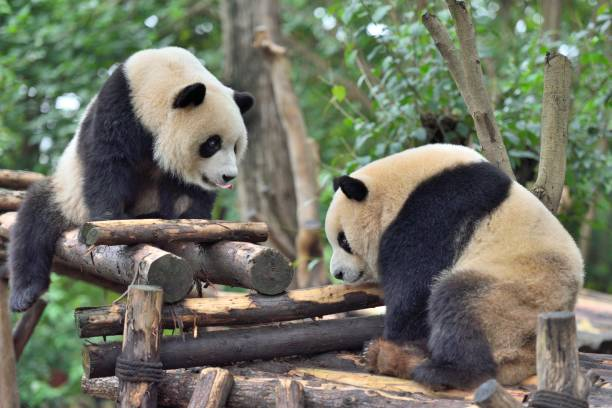panda: (157, 69, 279, 208)
